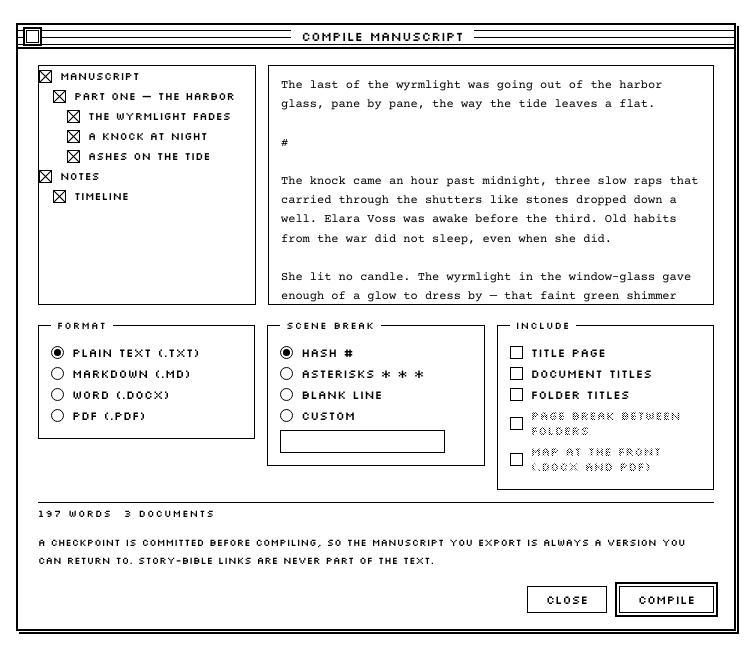
Test case: Compile: Map at the front › says when there is nothing on the map to put there
This screenshot has width=756, height=659.
expect the checkbox labelled "Notes" is shown: met, box top-left (39, 166), bottom-right (255, 186)
Click the radio button labelled "Word (.docx)": click(147, 394) top-left (51, 384), bottom-right (242, 405)
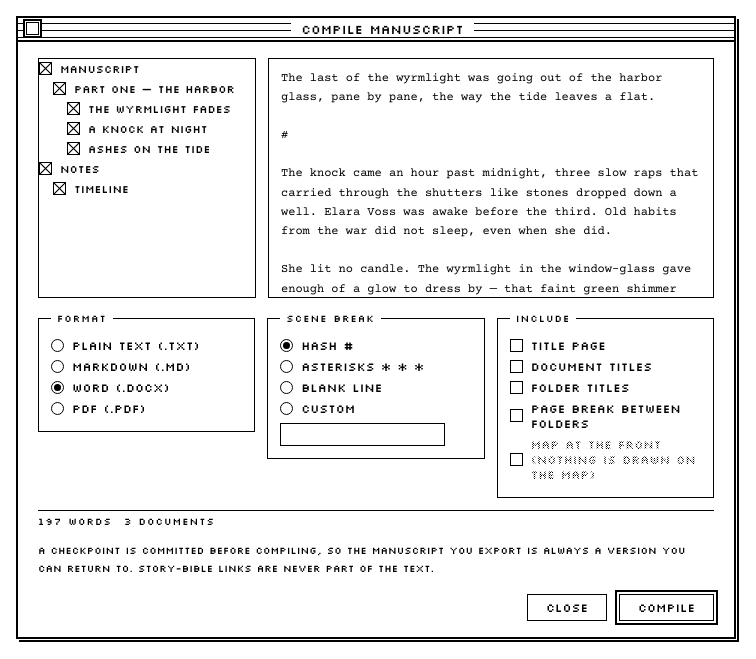
expect the checkbox labelled "Map at the front (nothing is drawn on the map)" is disabled: met, box top-left (510, 434), bottom-right (701, 484)
expect the checkbox labelled "Map at the front (nothing is drawn on the map)" is shown: met, box top-left (510, 434), bottom-right (701, 484)
